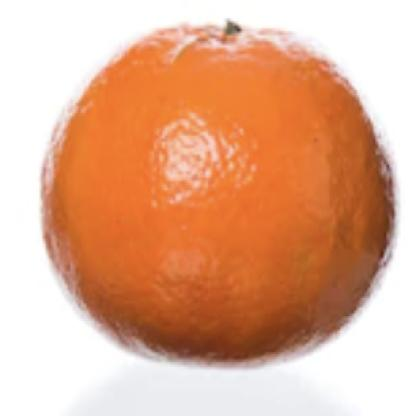fresh: (36, 28, 393, 365)
